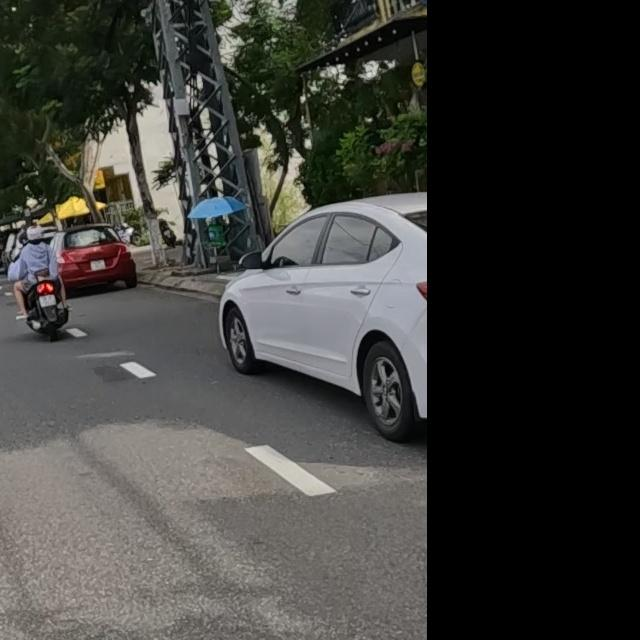license-plate: (38, 294, 57, 308)
